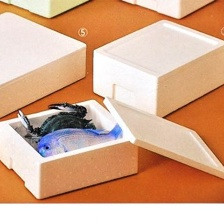foam_box: (0, 94, 223, 200), (88, 15, 224, 121), (0, 9, 88, 120), (110, 0, 224, 22), (0, 0, 98, 21)
